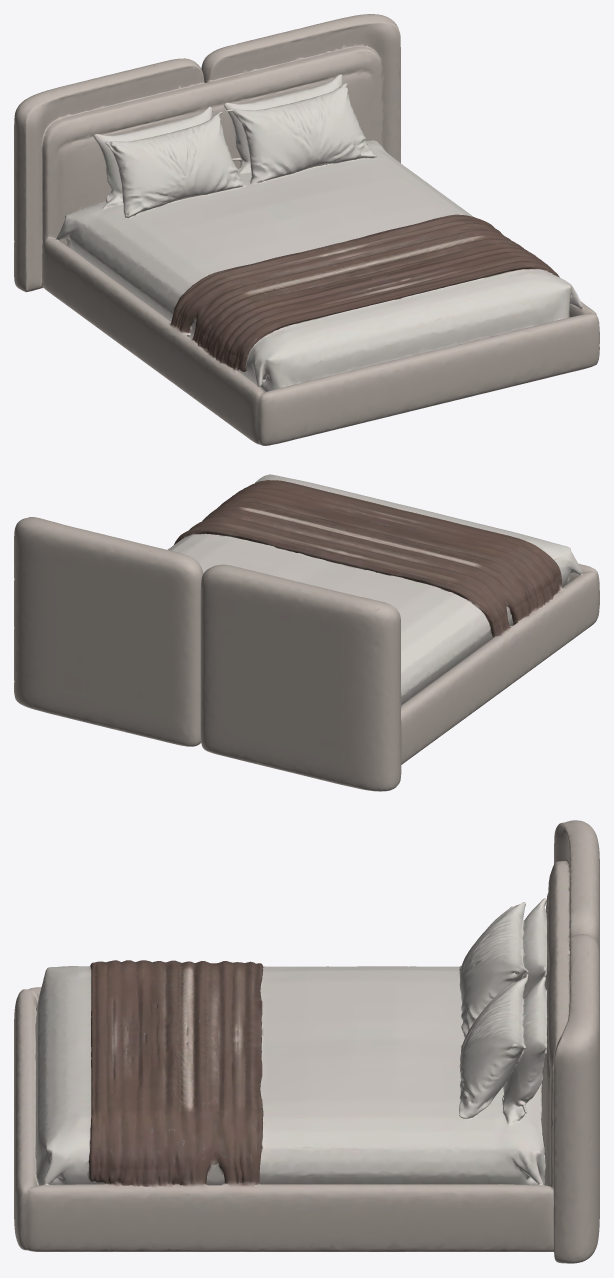
The model's file is uploaded-bed.glb.
The picture shows the model from 3 angles, top to bottom: view 1: azimuth 30°, elevation 25°; view 2: azimuth 150°, elevation 25°; view 3: azimuth 270°, elevation 25°; orthographic projection. The views are drawn at different scales.
Parts seen in each view (by area): view 1: world; view 2: world; view 3: world.
Boxes of the visible parts, x1,y1,x2,y2 form: world: (14, 14, 599, 445); world: (14, 474, 599, 791); world: (14, 820, 599, 1263).
Bounding box in the file's own units: 0.9259 × 0.4365 × 1.
Materials: 1 (1 with a texture image).
